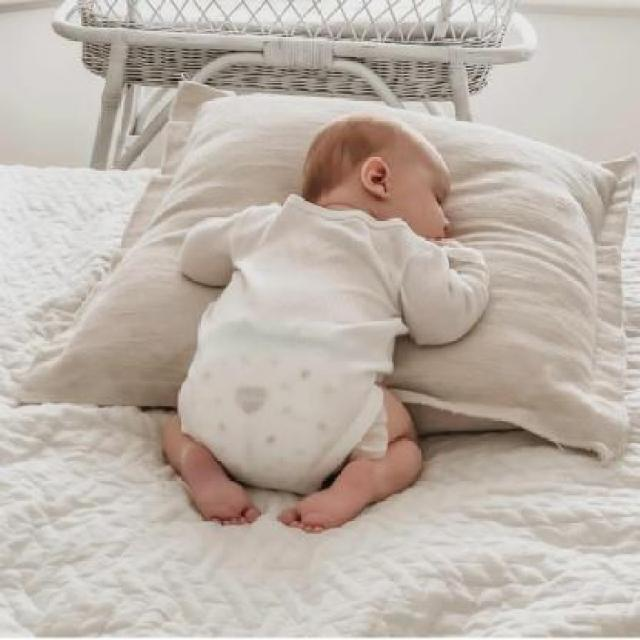baby: (162, 108, 492, 530)
